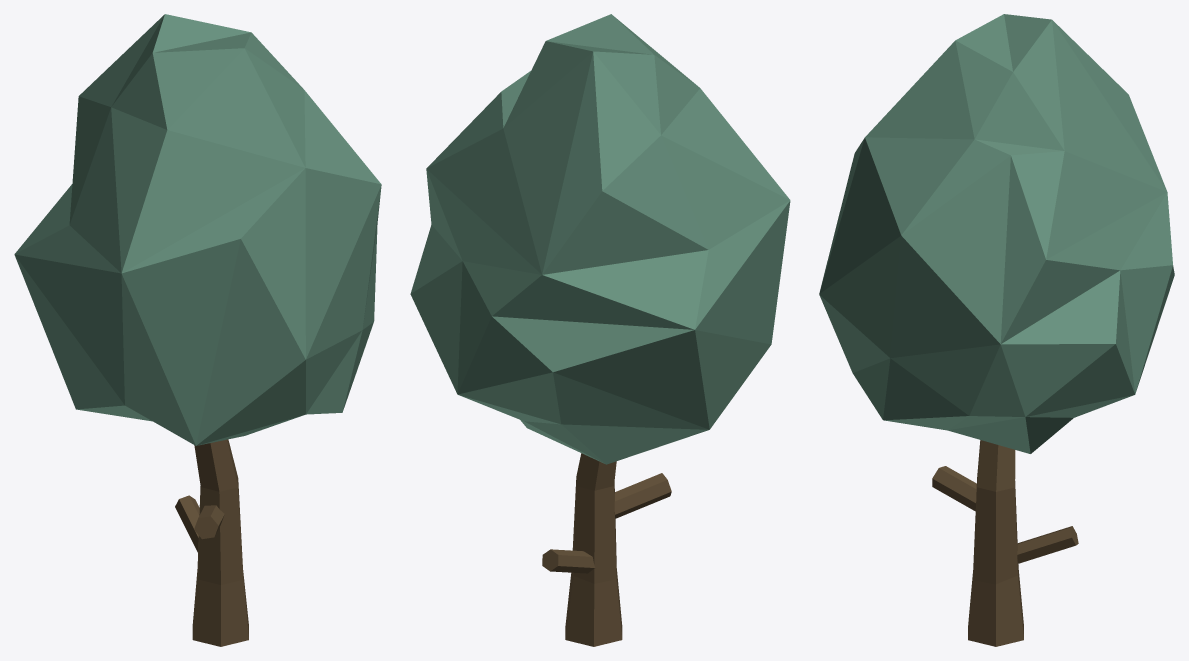
File: Tree1.fbx
3 views of the same model, side by side, from view 1: azimuth 30°, elevation 25°; view 2: azimuth 150°, elevation 25°; view 3: azimuth 270°, elevation 25° (orthographic).
Visible parts, largest first — view 1: pCube1, pCylinder1, pasted__pCylinder2, pCylinder2; view 2: pCube1, pCylinder1, pCylinder2, pasted__pCylinder2; view 3: pCube1, pCylinder1, pasted__pCylinder2, pCylinder2.
Part boxes in pixels (x1,y1,x2,y2): pCube1: (14, 14, 381, 445); pCylinder1: (192, 439, 248, 646); pasted__pCylinder2: (175, 495, 199, 552); pCylinder2: (194, 505, 224, 539); pCube1: (410, 14, 790, 464); pCylinder1: (565, 453, 622, 646); pCylinder2: (614, 473, 671, 518); pasted__pCylinder2: (542, 549, 595, 573); pCube1: (819, 14, 1174, 453); pCylinder1: (968, 440, 1023, 646); pasted__pCylinder2: (1017, 526, 1078, 563); pCylinder2: (932, 466, 976, 511).
Bounding box in the file's own units: 10.41 × 19.26 × 10.34.
